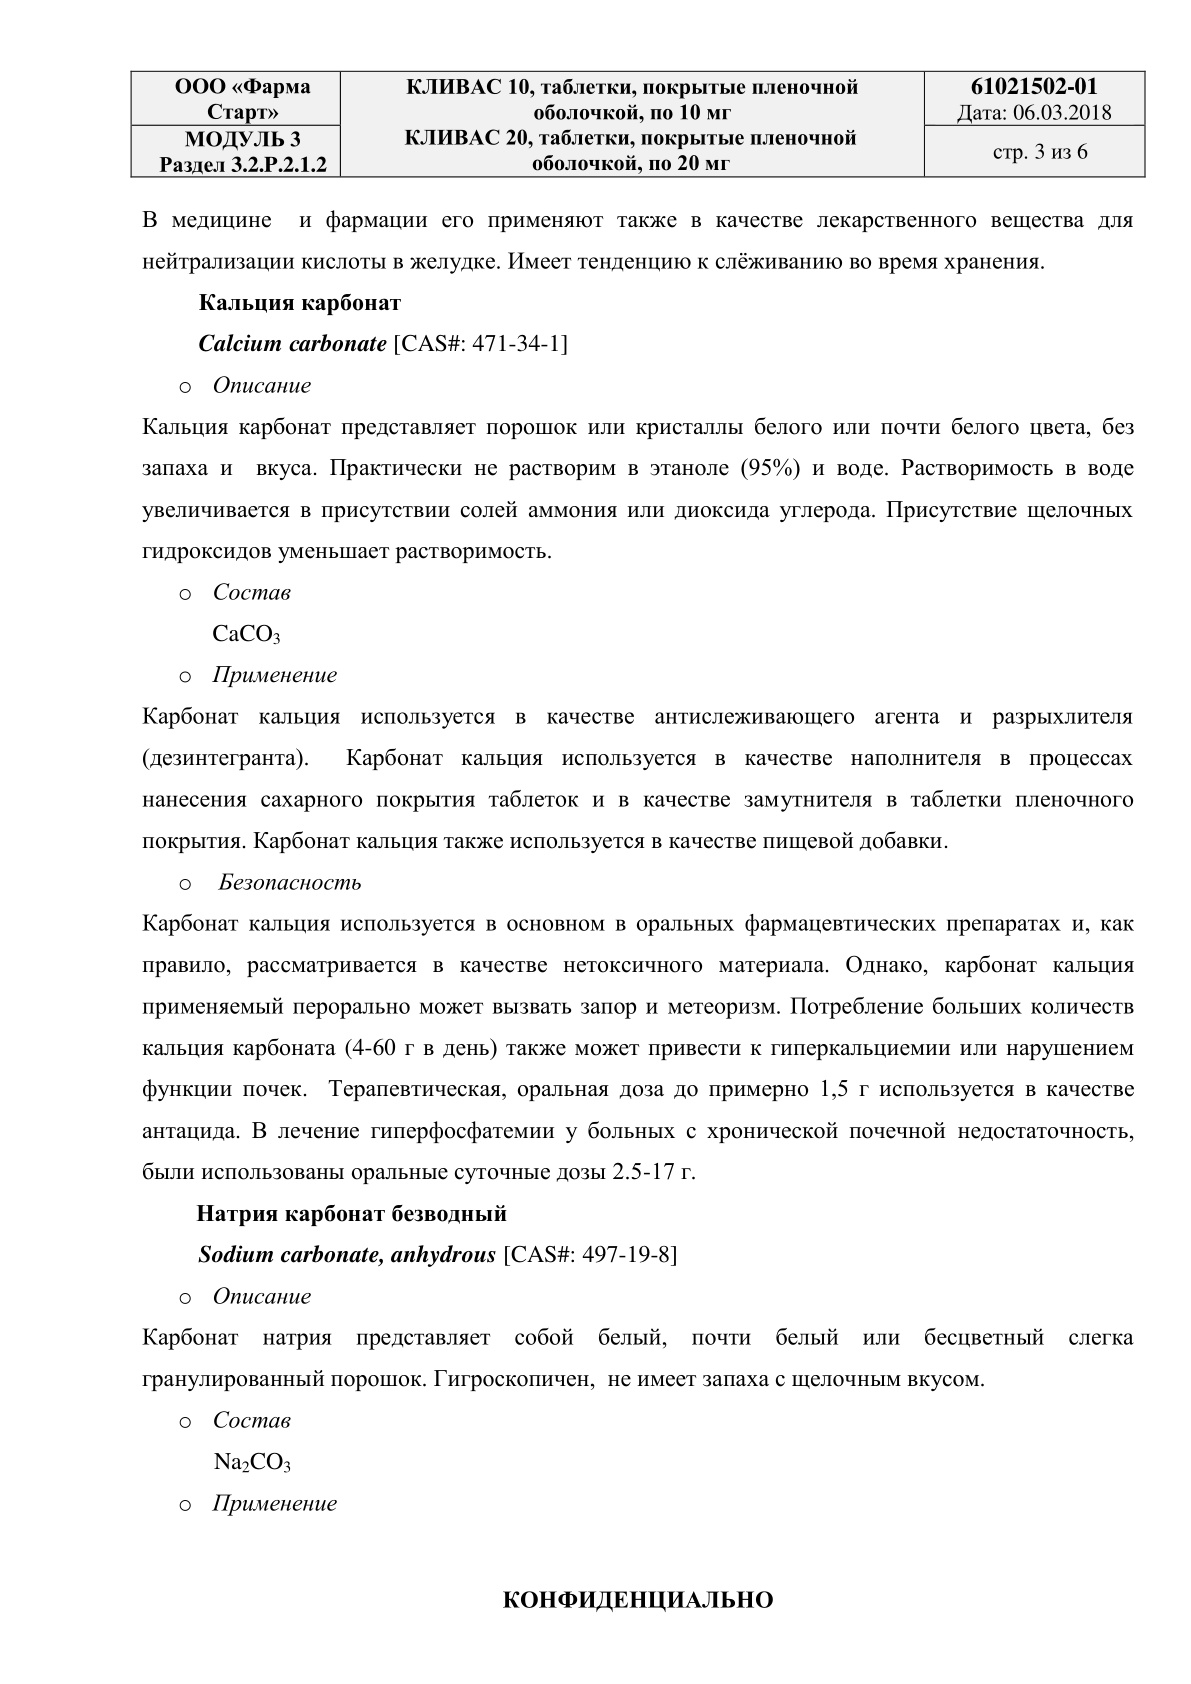merged_cells: (129, 70, 1147, 179)
